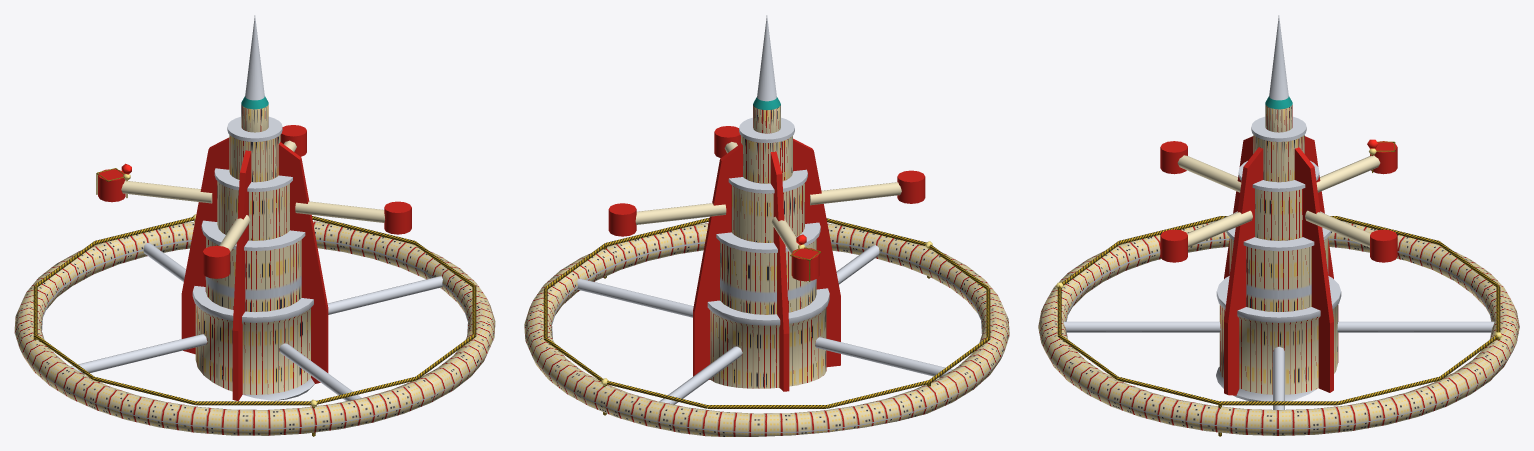
The model's file is guard_station_build3_debris2.obj.
The picture shows the model from 3 angles, left to right: view 1: azimuth 30°, elevation 25°; view 2: azimuth 150°, elevation 25°; view 3: azimuth 270°, elevation 25°; orthographic projection.
Visible parts, largest first — view 1: ring, tower, spoke, girder, buttress135, buttress315, cradle, arm, buttress225; view 2: ring, tower, spoke, girder, buttress45, buttress225, cradle, arm, buttress315; view 3: ring, tower, spoke, girder, buttress135, buttress45, arm, cradle, buttress225, buttress315.
Boxes of the visible parts, bbox=[...] form: ring: bbox=[14, 221, 495, 435]; tower: bbox=[192, 15, 314, 400]; spoke: bbox=[71, 243, 442, 401]; girder: bbox=[33, 168, 476, 405]; buttress135: bbox=[278, 142, 328, 384]; buttress315: bbox=[181, 137, 229, 354]; cradle: bbox=[98, 125, 411, 278]; arm: bbox=[121, 140, 384, 252]; buttress225: bbox=[232, 150, 251, 401]; ring: bbox=[524, 223, 1009, 436]; tower: bbox=[707, 15, 829, 388]; spoke: bbox=[577, 245, 952, 404]; girder: bbox=[543, 218, 990, 408]; buttress45: bbox=[693, 143, 742, 379]; buttress225: bbox=[793, 138, 840, 367]; cradle: bbox=[608, 126, 925, 281]; arm: bbox=[635, 142, 901, 253]; buttress315: bbox=[770, 151, 789, 391]; ring: bbox=[1038, 222, 1519, 435]; tower: bbox=[1216, 15, 1341, 401]; spoke: bbox=[1063, 321, 1494, 409]; girder: bbox=[1057, 141, 1500, 405]; buttress135: bbox=[1224, 147, 1263, 395]; buttress45: bbox=[1294, 147, 1333, 392]; arm: bbox=[1177, 155, 1380, 247]; cradle: bbox=[1160, 141, 1397, 262]; buttress225: bbox=[1224, 136, 1253, 278]; buttress315: bbox=[1304, 136, 1333, 278].
Size of the model in its own units: 244 by 204 by 244.
9 materials, 2 textured.
